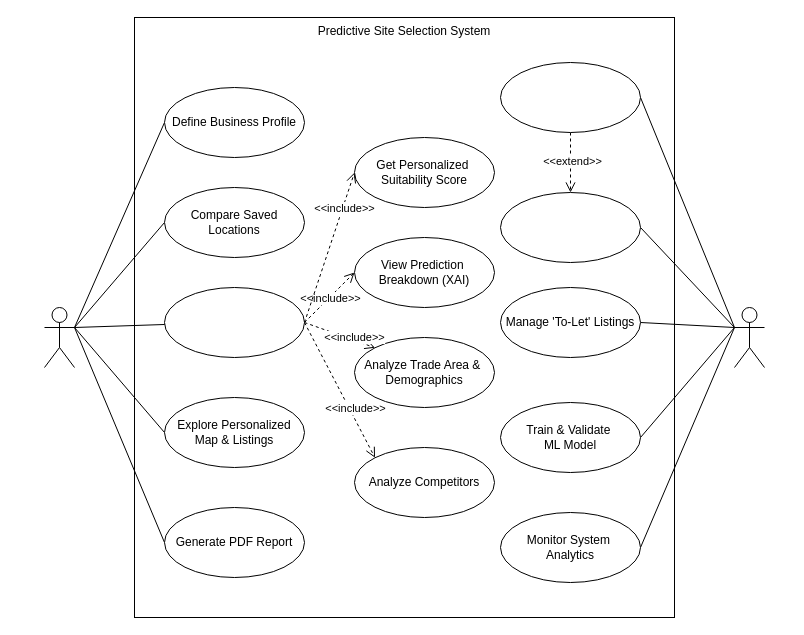
Image size: 804x635. Some labels were removed from this diagram. Here are the shapes that lost their labels. From the top down, the centre of each, then its label:
At (x=570, y=97): "Update Competitor Data".
At (x=570, y=227): "Manage Geographic Data".
At (x=59, y=337): "Business owner".
At (x=234, y=322): "Select point for Deep analysis".
At (x=749, y=337): "Project Admin".
